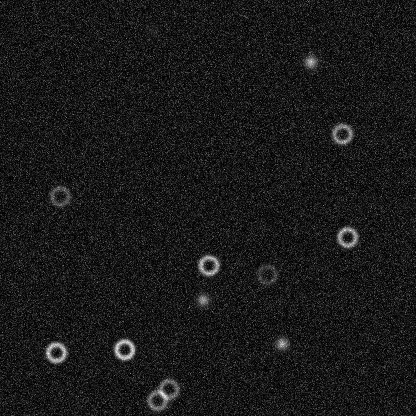Ring: (156, 376, 180, 400), (145, 388, 169, 412), (335, 225, 359, 249), (112, 337, 136, 361), (330, 121, 354, 145), (47, 184, 71, 208), (255, 262, 279, 286), (196, 253, 220, 277), (44, 340, 68, 364)
Spot: (194, 291, 210, 307), (302, 53, 318, 69), (145, 22, 161, 38), (273, 335, 289, 351)
